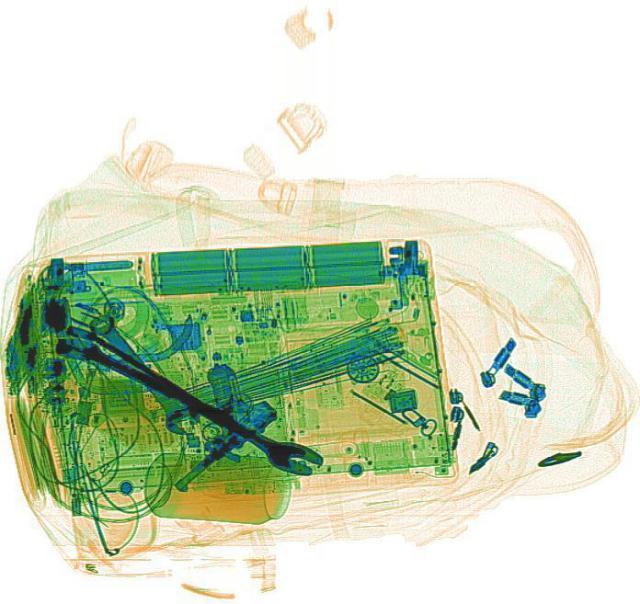Gun: (120, 357, 280, 492)
Wrench: (52, 319, 326, 484), (79, 303, 209, 438)
